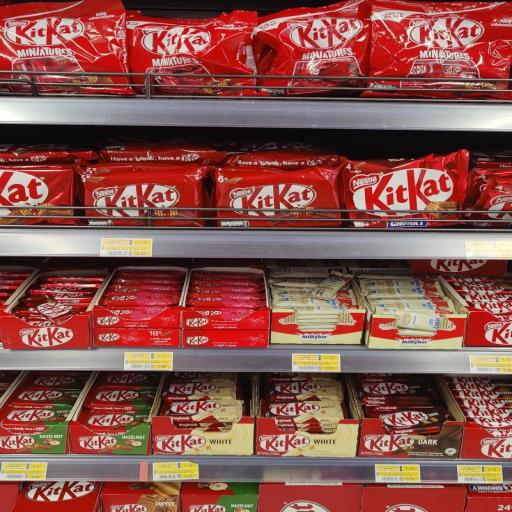kitkat: (195, 135, 384, 276)
